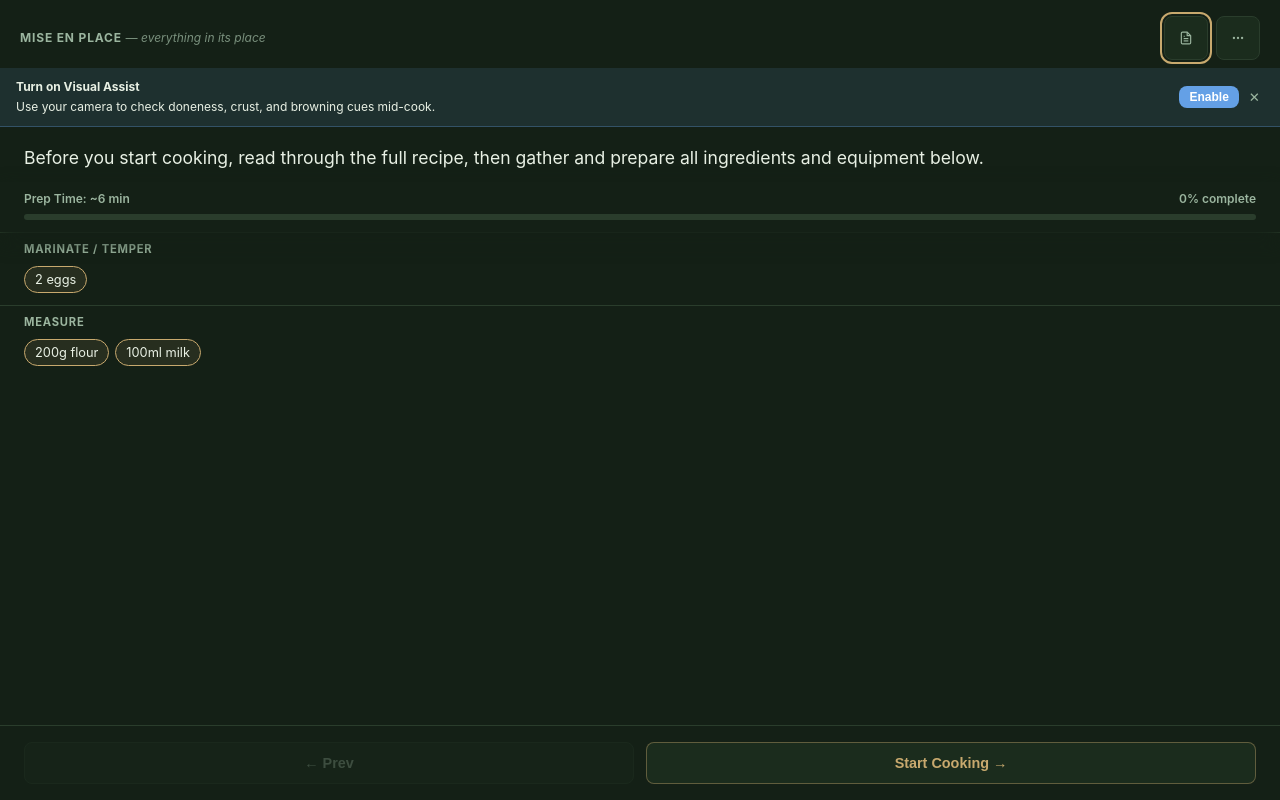
Test: CookingNavigator — hands-free button › renders hands-free mic button
The image size is (1280, 800).
Click the button titled "Options" at (1238, 38), box [1216,16,1260,60]
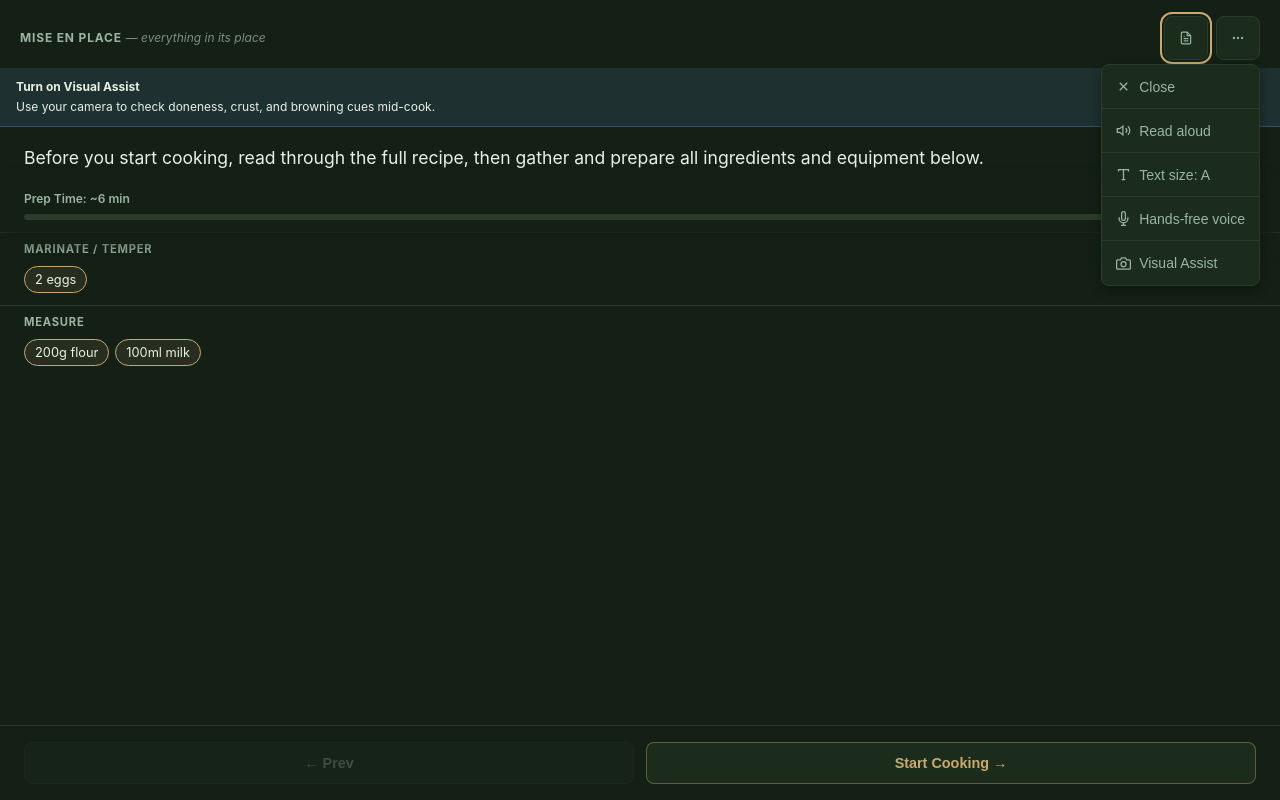
Result: the menu item titled "Start hands-free voice navigation" is shown at [1102,197,1259,241]
